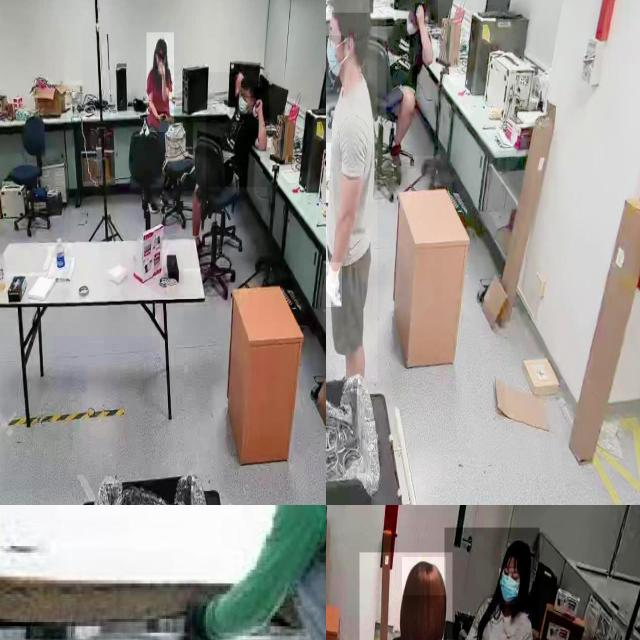face_mask: (326, 35, 344, 87), (499, 568, 519, 604), (237, 88, 253, 114)
face_nomask: (156, 52, 164, 70)
hand_glove: (326, 262, 342, 307)
hand_noglove: (251, 96, 263, 117), (415, 3, 425, 26), (157, 112, 167, 122), (159, 63, 165, 75)
head_nohelmet: (402, 557, 446, 596), (501, 539, 533, 561), (327, 0, 370, 13), (239, 72, 263, 88), (409, 0, 426, 11), (155, 37, 167, 49)
person: (326, 0, 377, 382), (444, 527, 539, 640), (386, 0, 438, 156), (206, 72, 270, 188), (146, 32, 174, 133)
